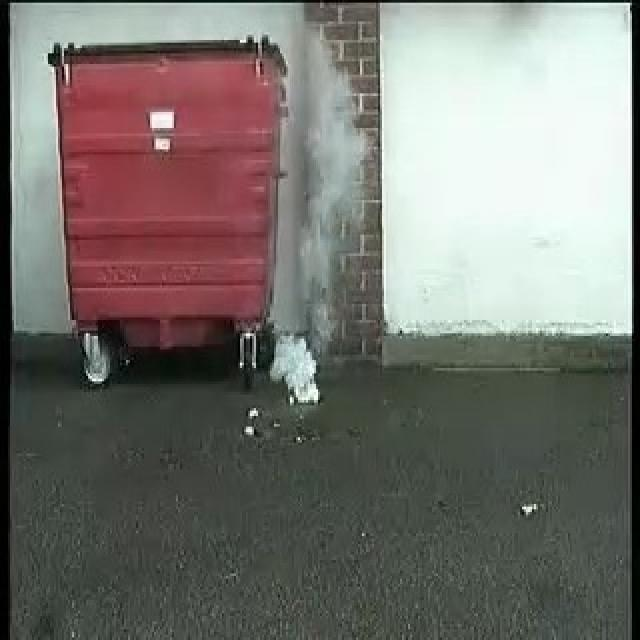smoke: (270, 42, 368, 406)
